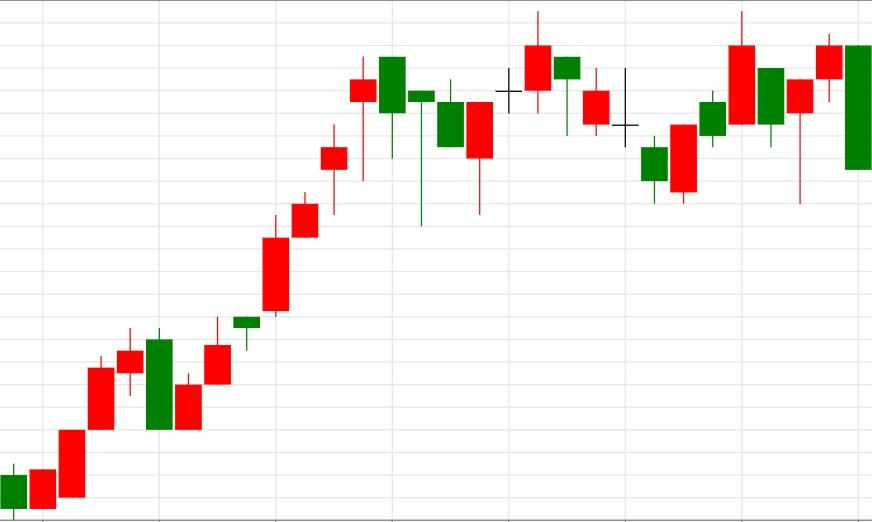bearish_engulfing_fall: (0, 328, 173, 520)
bullish_engulfing_rise: (524, 12, 698, 205)
